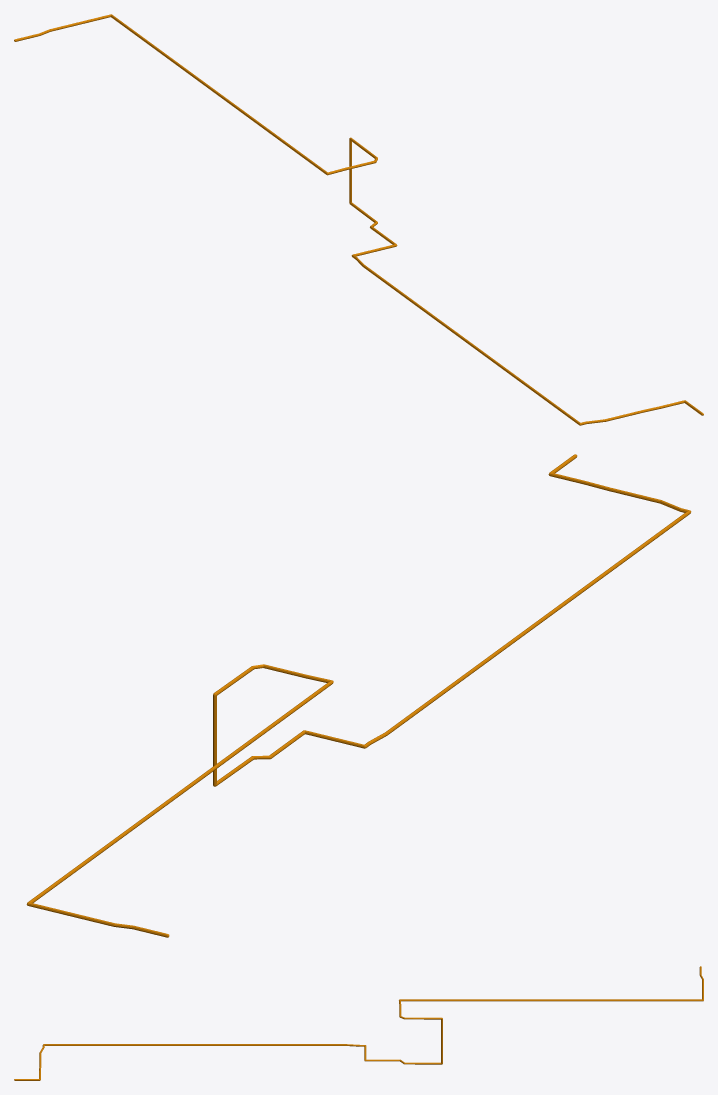
3 renders of one model, top to bottom at view 1: azimuth 30°, elevation 25°; view 2: azimuth 150°, elevation 25°; view 3: azimuth 270°, elevation 25°, orthographic. The views are drawn at different scales.
Bounding box in the file's own units: 1634 × 520 × 6941.
